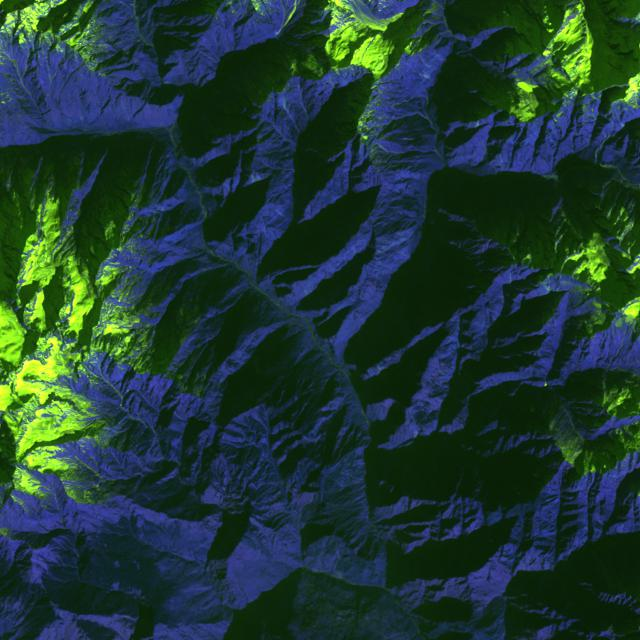landslides: (305, 54, 331, 86), (137, 538, 166, 552), (288, 52, 298, 88), (438, 581, 449, 607), (433, 357, 448, 375), (375, 363, 386, 381), (298, 520, 312, 534), (298, 583, 313, 596), (413, 430, 424, 447), (339, 401, 362, 409), (252, 357, 262, 372), (159, 410, 172, 420), (264, 330, 275, 341), (426, 3, 437, 14), (60, 610, 66, 628), (356, 313, 365, 325)
